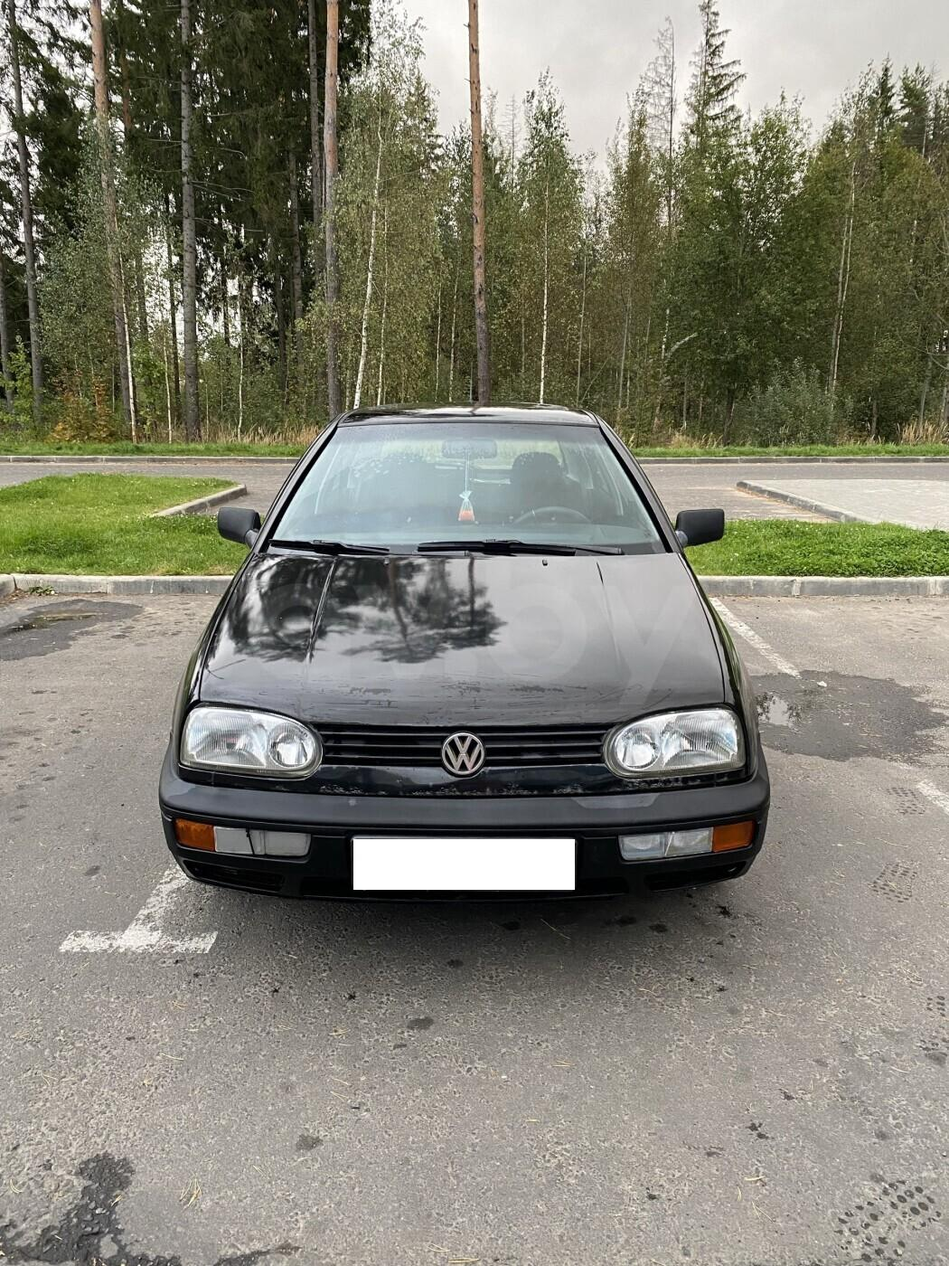Golf_1991-2000: (149, 403, 784, 917)
